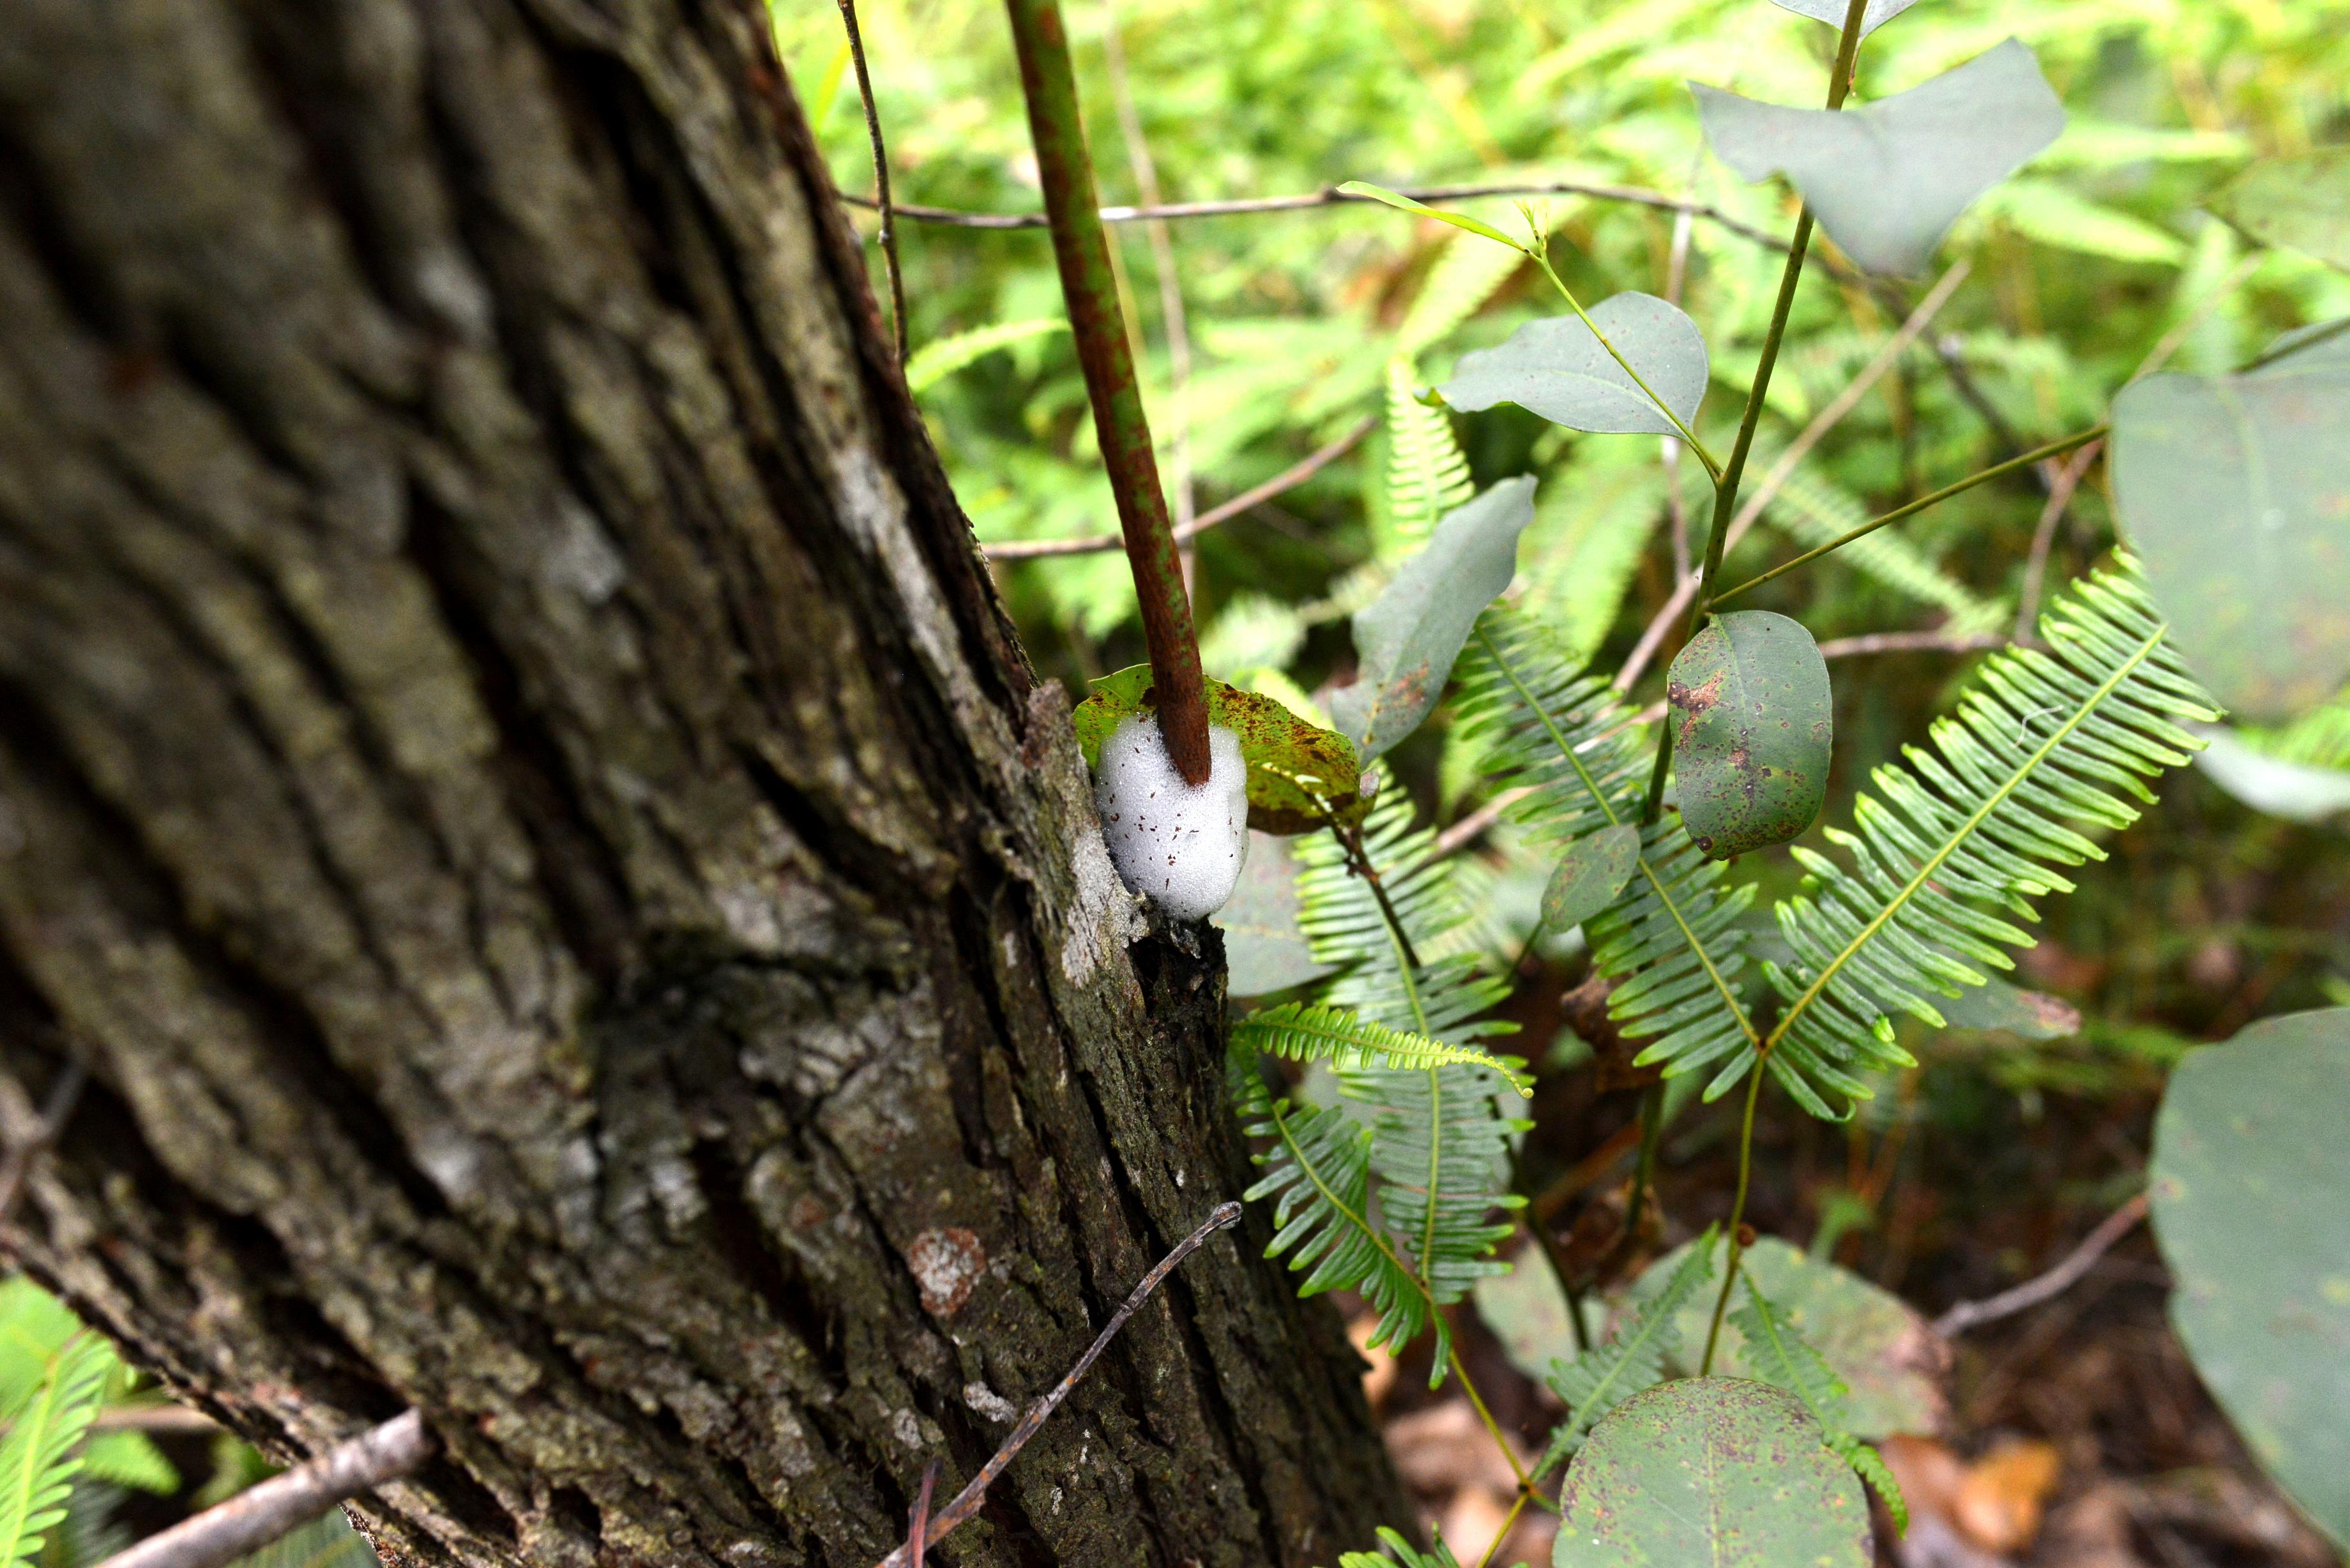Ceratocystis - Bubble: (1090, 689, 1258, 924)
